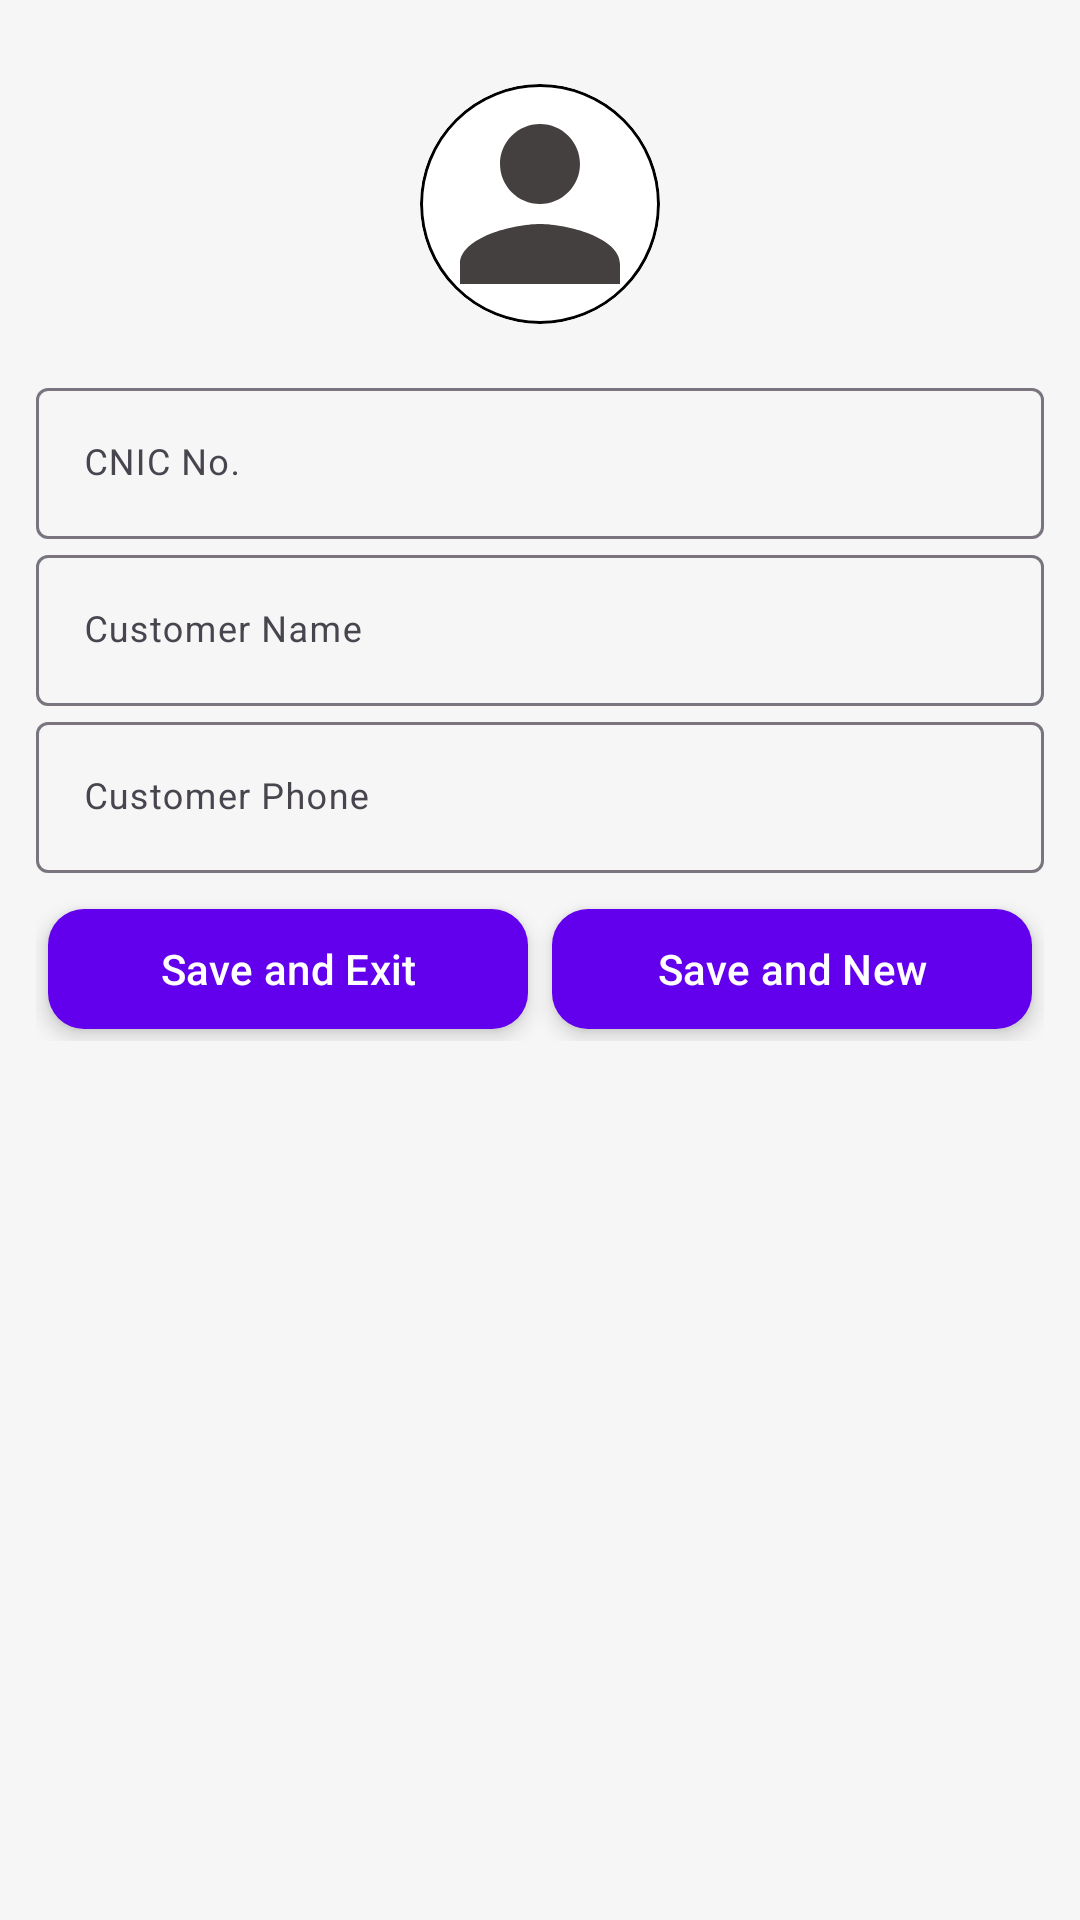

Named icons in this screenshot (1080x1920) and their centers, (x=x, y=y):
place holder: (x=540, y=204)
